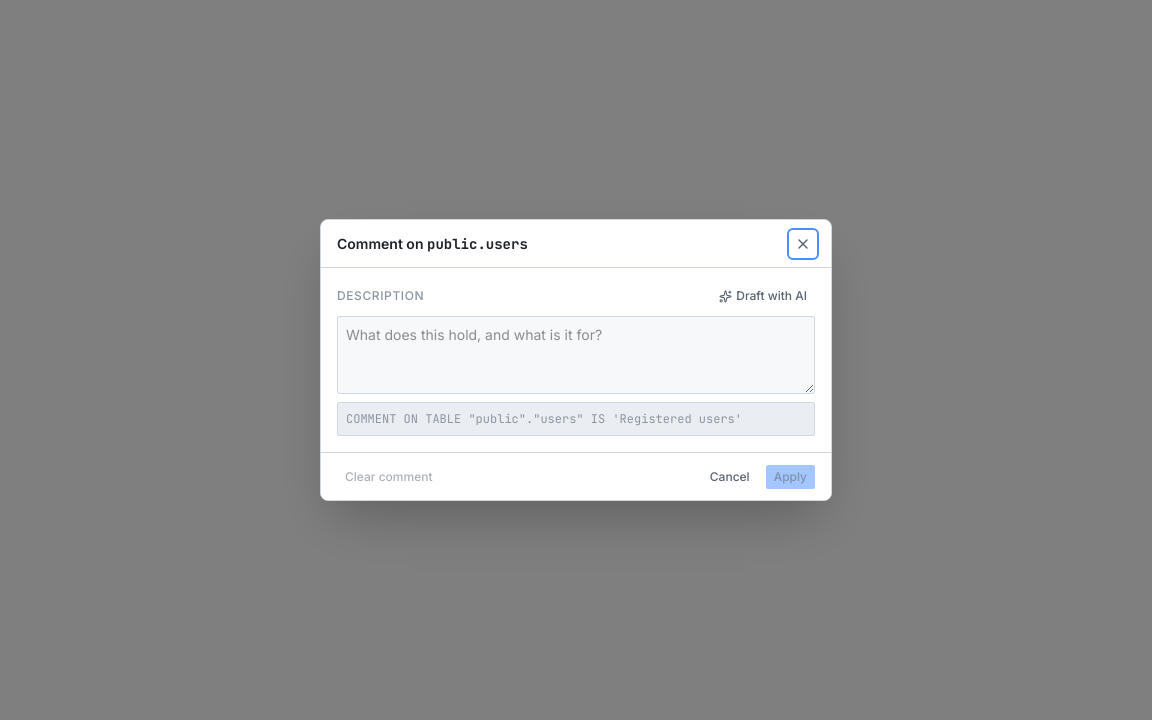
EditCommentModal › fills the field from an AI draft but still requires an explicit apply
Click the button "Draft with AI".
click(763, 296)  # box [711,284,815,308]
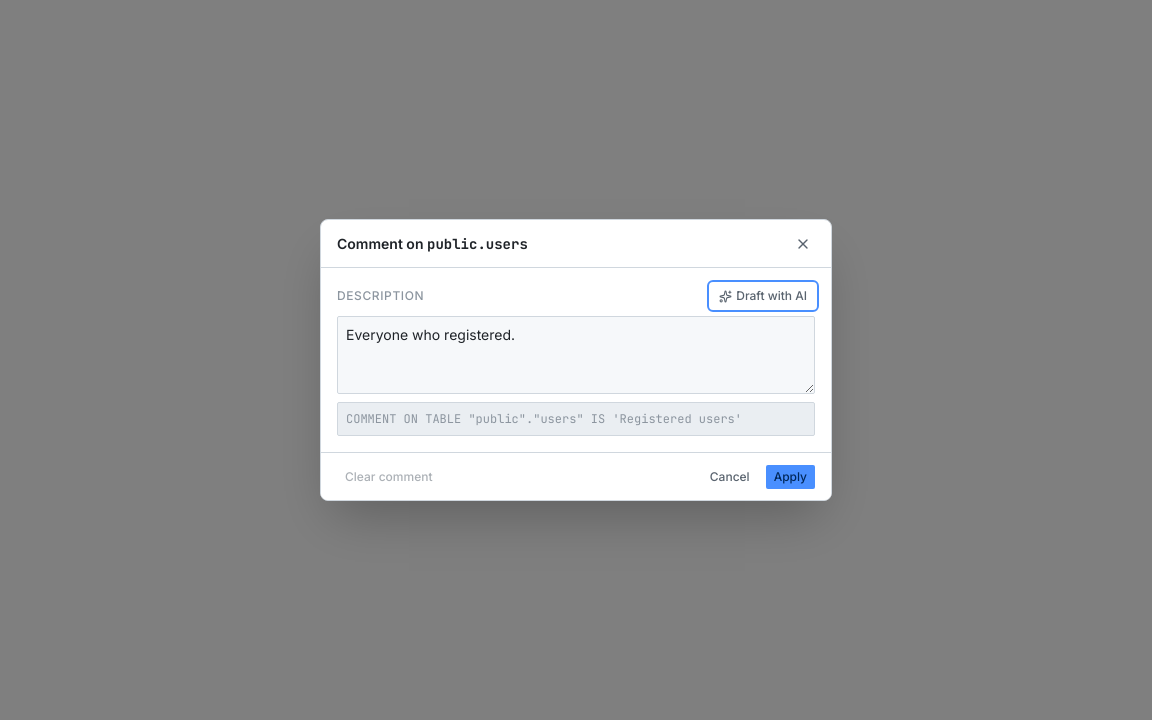
expect the text box labelled "Description" holds "Everyone who registered.": met, box [337,316,815,394]
